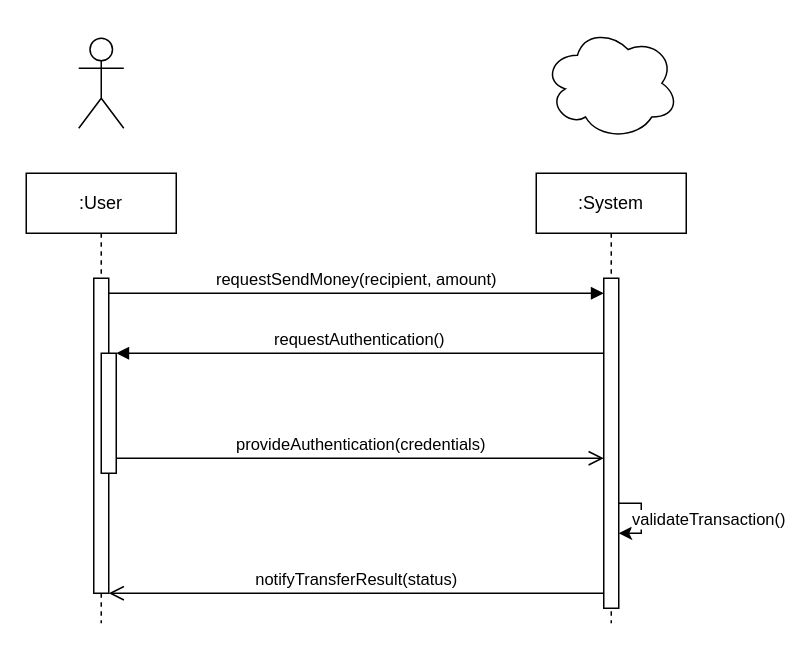
Image size: 810x650. Some labels were removed from this diagram. The centre of each missing label's shape, as x and y in pixels:
"System" goes at point 610,83.
"User" goes at point 100,82.
